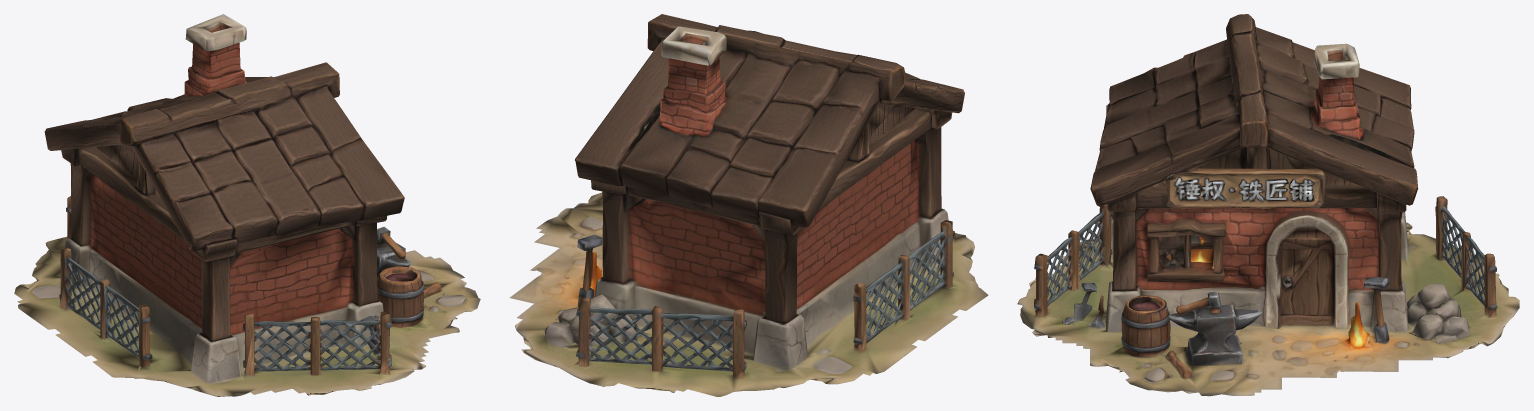
The model's file is bld_workshop.glb.
3 views of the same model, side by side, from view 1: azimuth 30°, elevation 25°; view 2: azimuth 150°, elevation 25°; view 3: azimuth 270°, elevation 25° (orthographic). The views are drawn at different scales.
Parts seen in each view (by area): view 1: tripo_node_90b87e3b-3f78-485a-ab1b-41e5f2d4957c; view 2: tripo_node_90b87e3b-3f78-485a-ab1b-41e5f2d4957c; view 3: tripo_node_90b87e3b-3f78-485a-ab1b-41e5f2d4957c.
Boxes of the visible parts, x1=… form: tripo_node_90b87e3b-3f78-485a-ab1b-41e5f2d4957c: x1=14, y1=14, x2=480, y2=396; tripo_node_90b87e3b-3f78-485a-ab1b-41e5f2d4957c: x1=509, y1=14, x2=988, y2=396; tripo_node_90b87e3b-3f78-485a-ab1b-41e5f2d4957c: x1=1017, y1=14, x2=1519, y2=396.
Bounding box in the file's own units: 0.8601 × 0.5544 × 1.
1 material, 1 textured.
